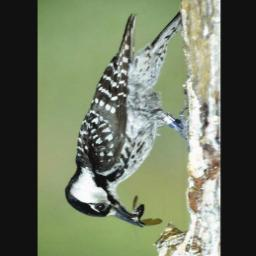Woodpecker: (64, 8, 182, 228)
